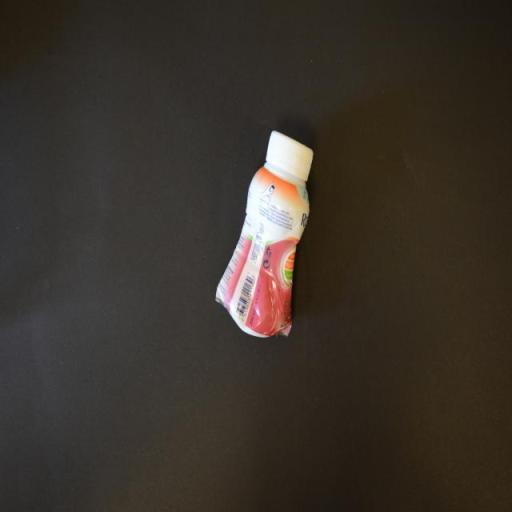plastic: (216, 124, 312, 339)
